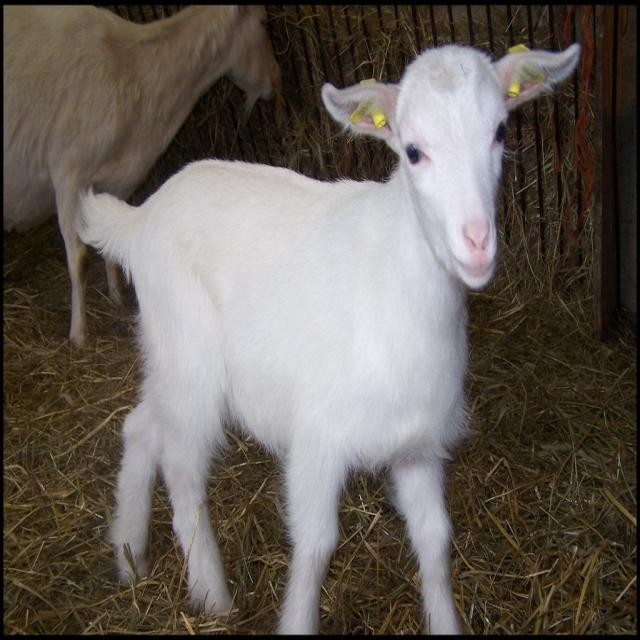Goat: (76, 43, 581, 635), (3, 5, 284, 355)
